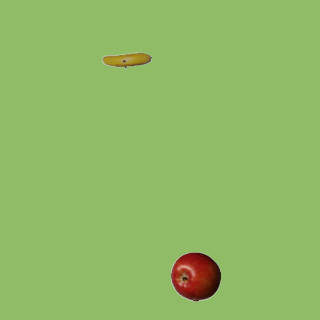Apple Braeburn: (170, 251, 220, 301)
Banana: (101, 35, 151, 85)
